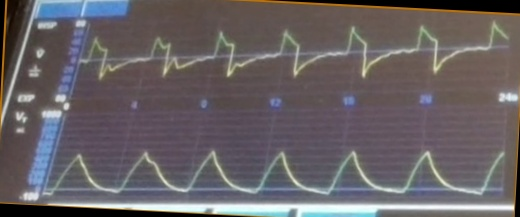Premature_cycling Flow: (86, 20, 510, 91)
Premature_cycling Volume: (52, 142, 505, 200)
